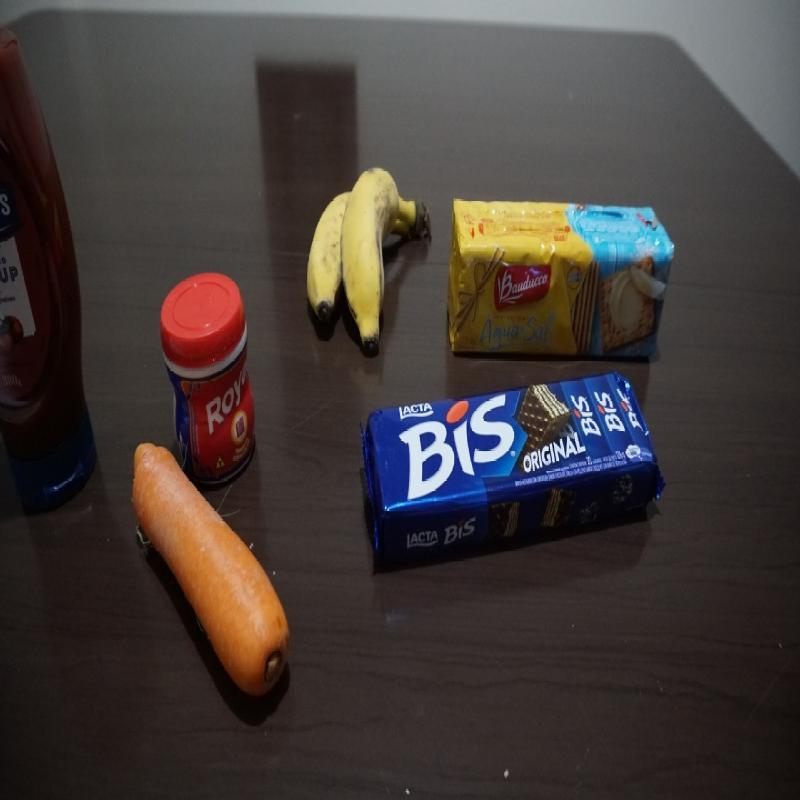Banana: (301, 162, 430, 356)
Carrot: (132, 439, 292, 702)
Cracker: (441, 195, 676, 362)
Ketchup: (0, 24, 98, 518)
Yeast: (158, 269, 258, 490)
